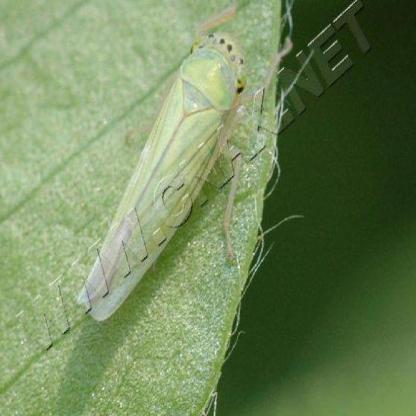Green-Leafhopper: (80, 4, 252, 313)
